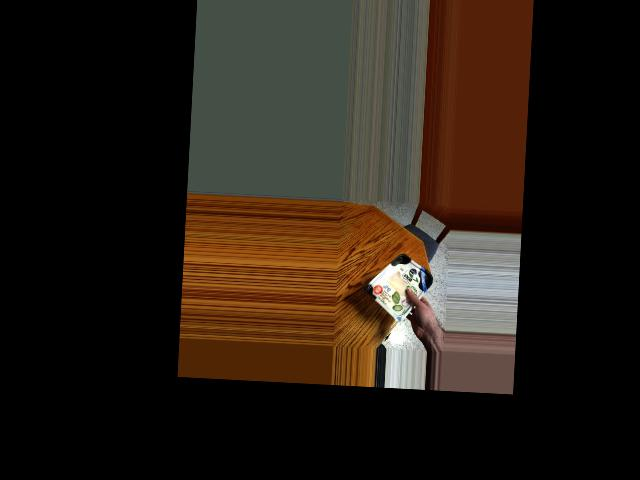cheese: (371, 251, 429, 312)
